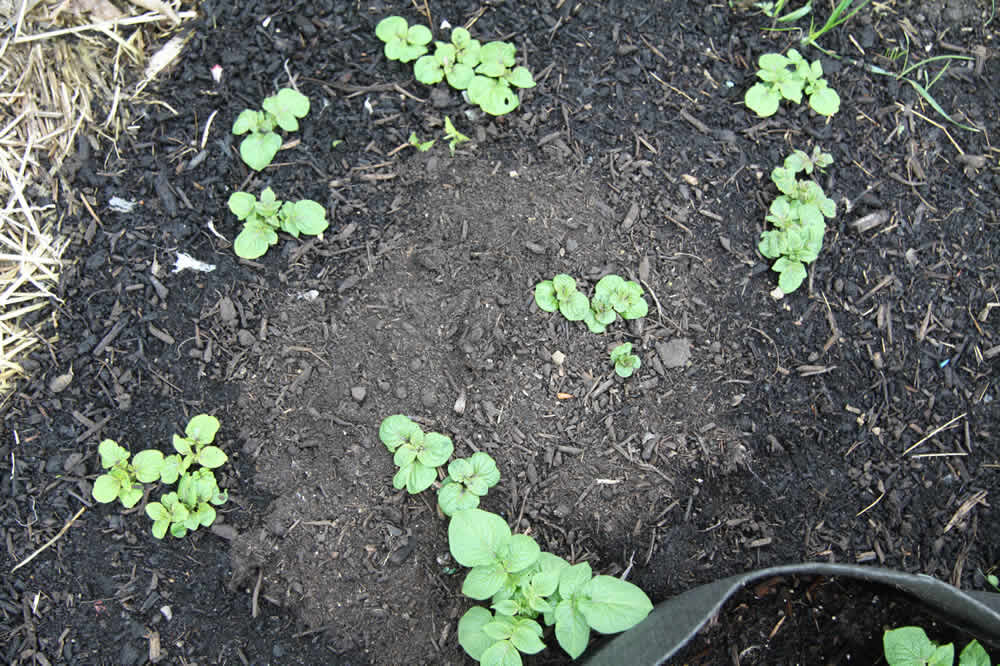potato_plant: (91, 412, 234, 539), (374, 15, 541, 123), (758, 147, 839, 298), (529, 268, 650, 333), (745, 46, 842, 125), (223, 189, 329, 258), (231, 83, 312, 173), (607, 342, 646, 381)
